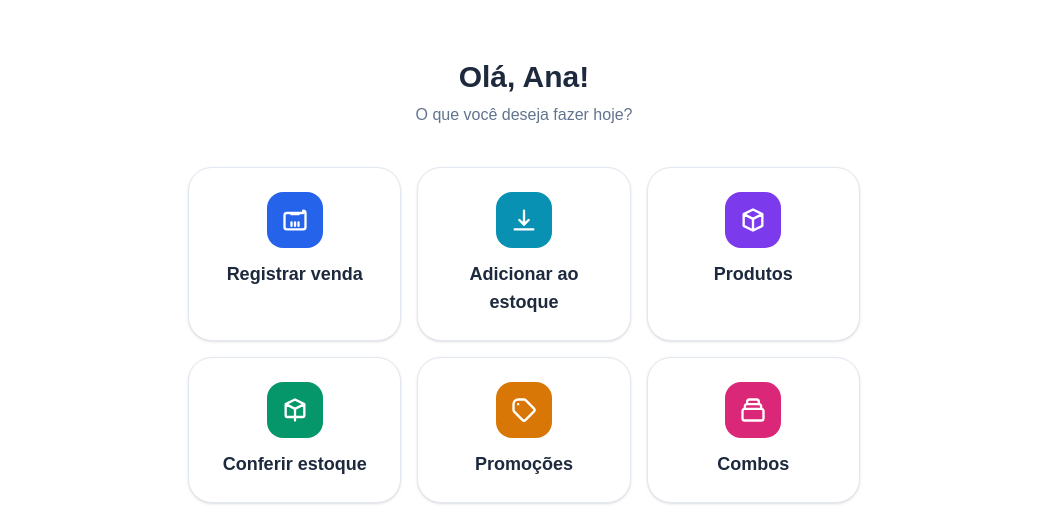
Test case: SimplesAssistant › navega para o fluxo de entrada (MovimentacaoWizard tipo ENTRADA) ao clicar em 'Adicionar ao estoque'
The image size is (1048, 521).
Click the button "Adicionar ao estoque".
click(524, 254)  # box x1=417 y1=167 x2=631 y2=341
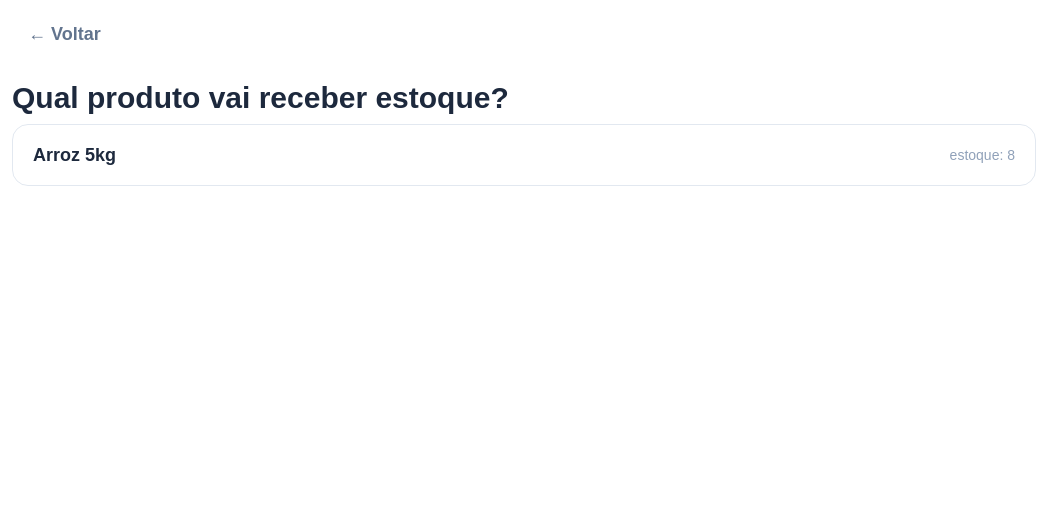
Expected: the heading "Qual produto vai receber estoque?" is shown, x1=12 y1=81 x2=509 y2=114
